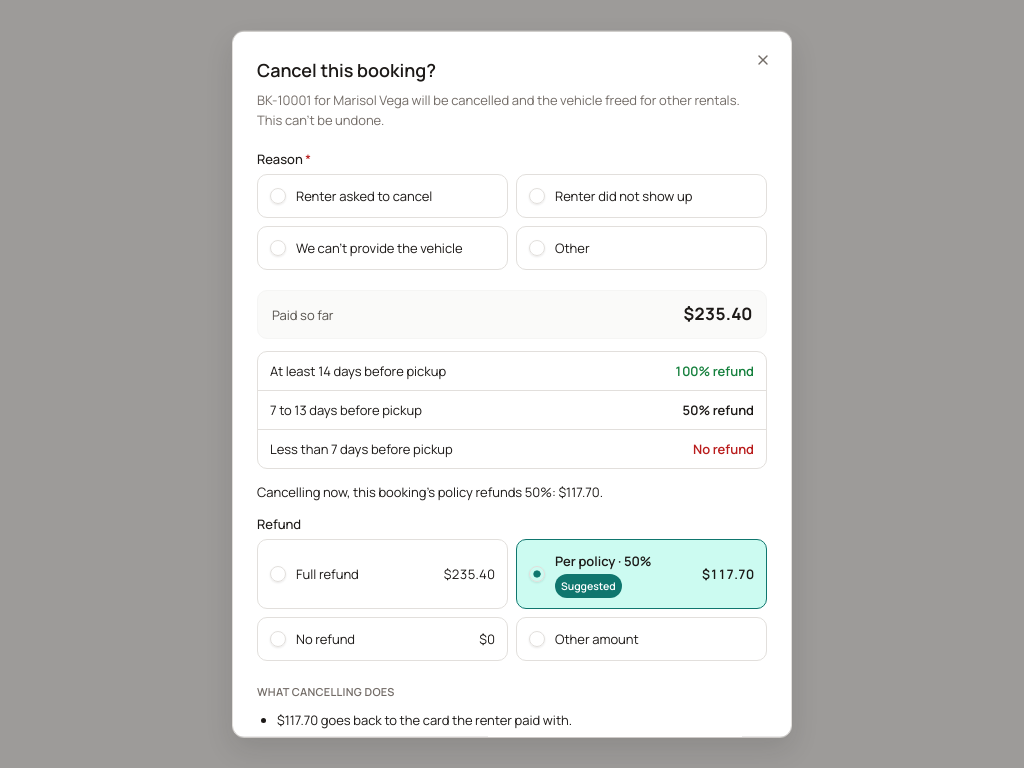
Test: BookingCancelDialog › says nothing about the money while the amount to refund is still to be typed
The image size is (1024, 768).
Click the radio button named "Other amount" next to "Other amount" at (537, 639), box [529, 631, 545, 647]
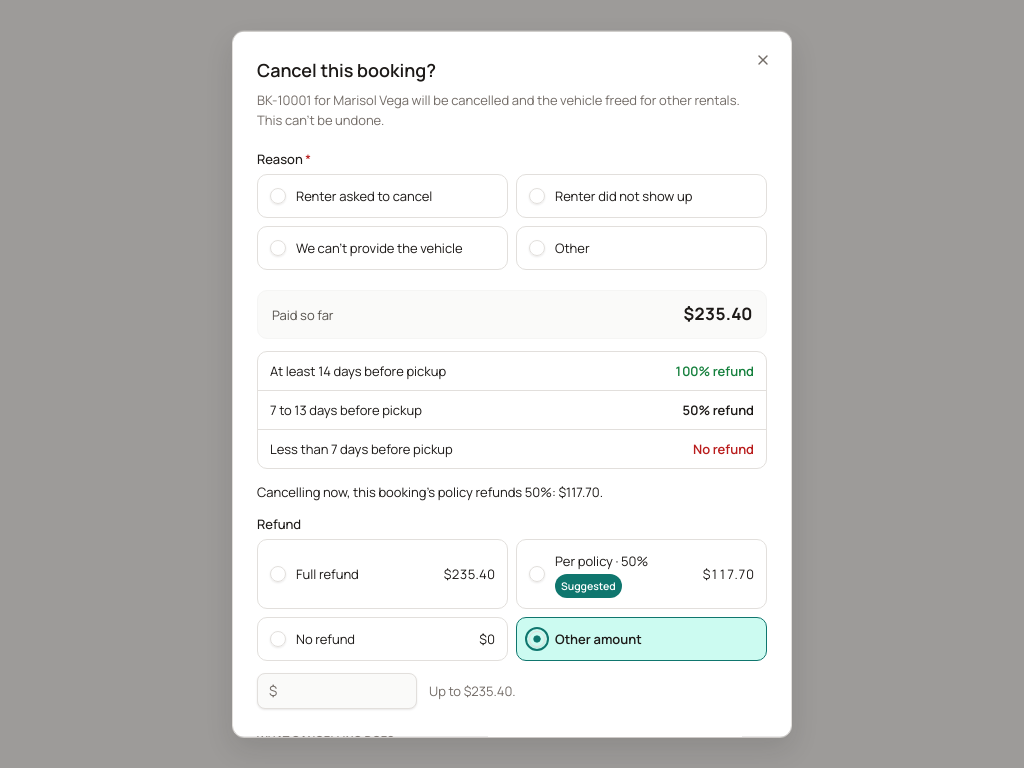
Now the list item "$117.70 goes back to the card the renter paid with." is gone
Type "200" into the number field named "Amount to refund" at (337, 691), box [257, 673, 417, 709]
(page scrolled)
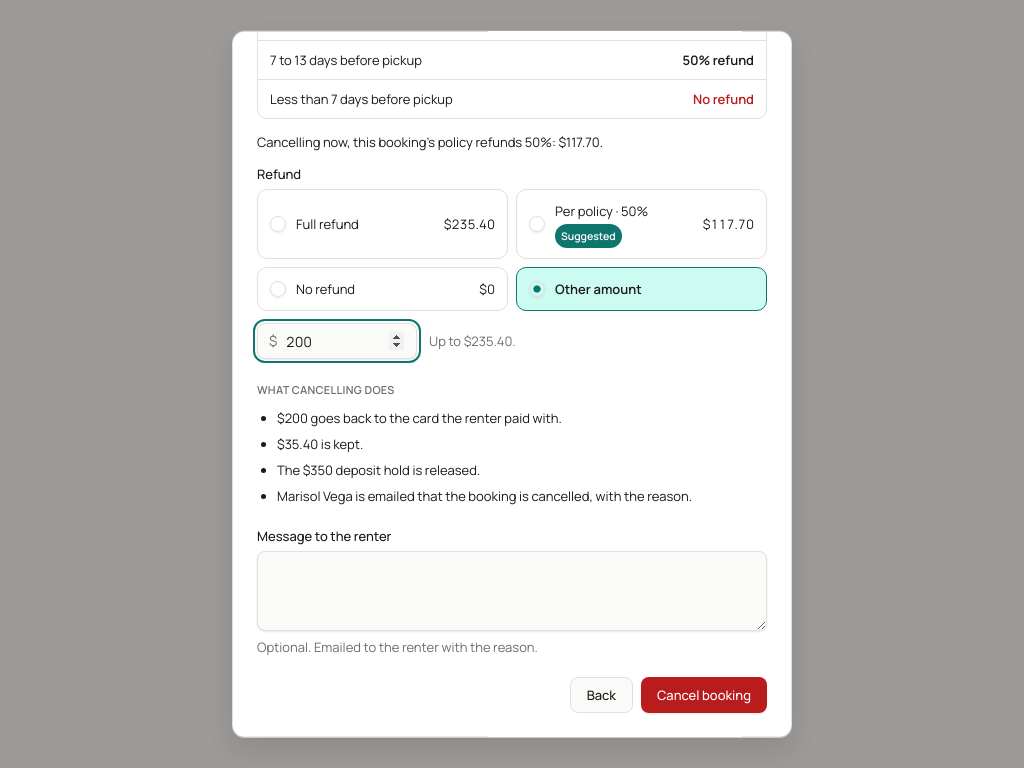
Now the list item "$35.40 is kept." is shown, box [277, 435, 363, 453]
